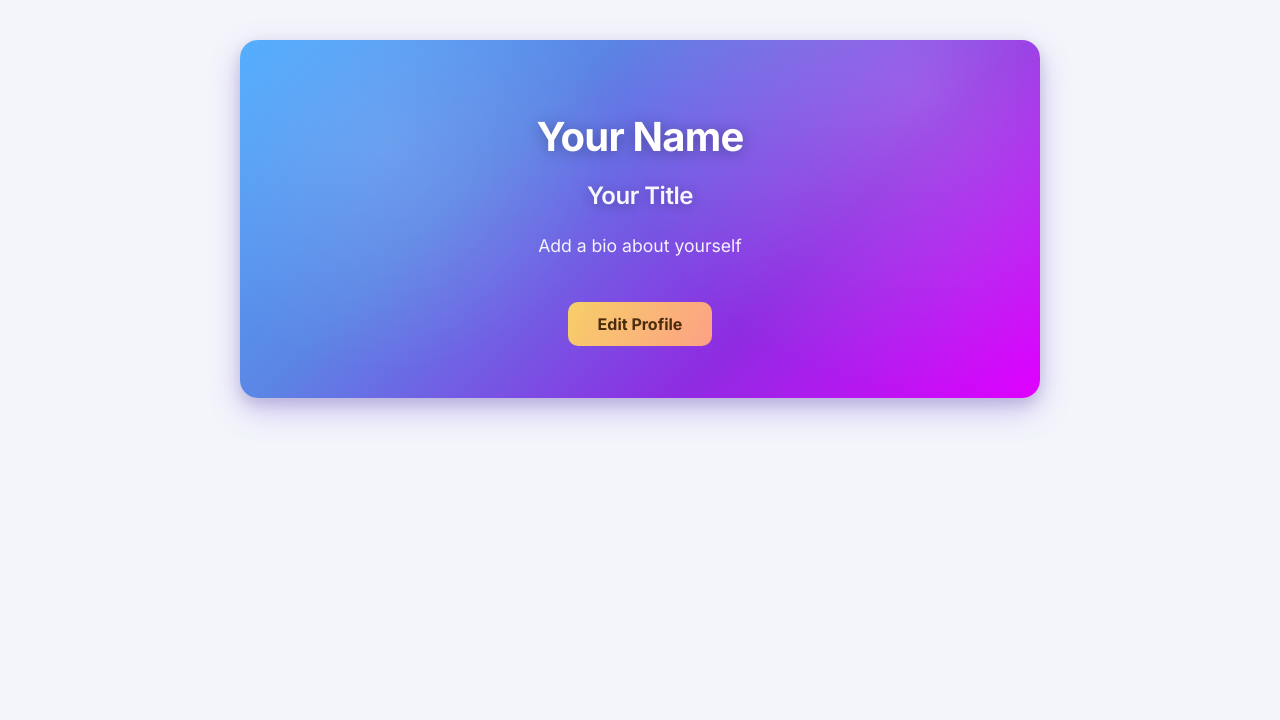
Test case: profile edit button opens and cancel button closes the profile form
Later steps or results of the test are not shown.
Step 1. Click the button "Edit Profile" → (640, 324), box [568,302,712,346]
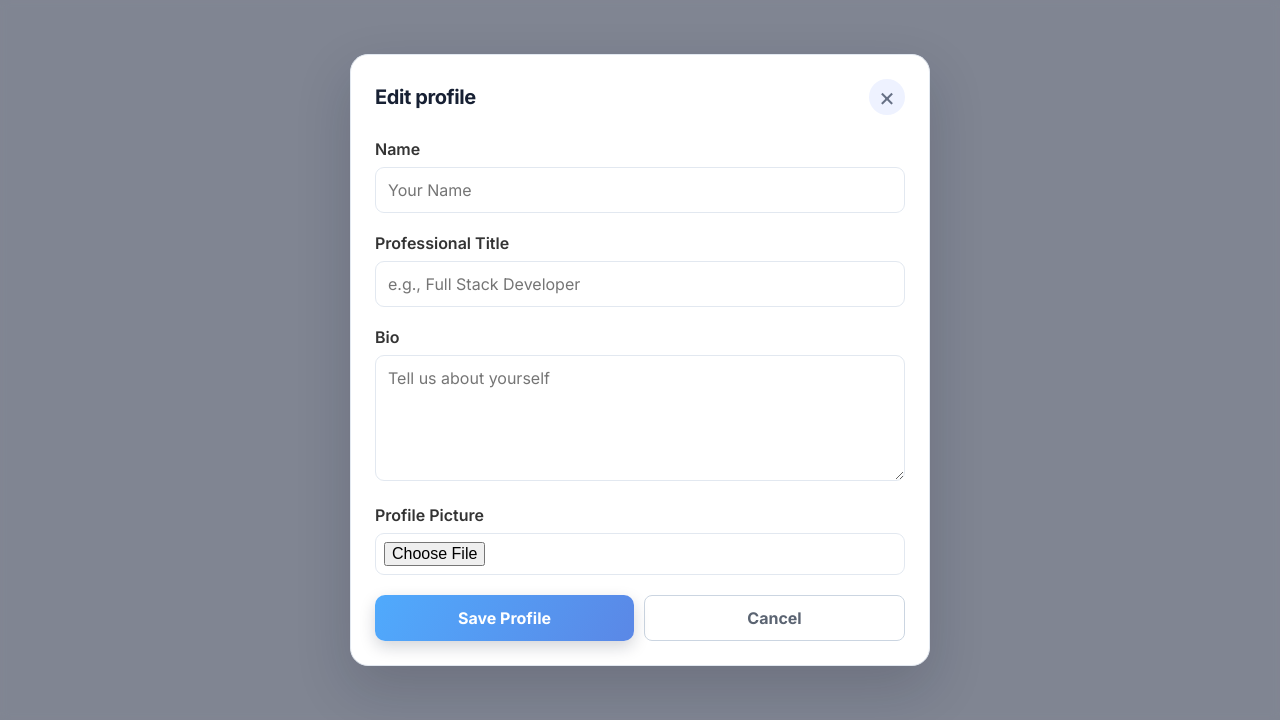
Check: the button "Save Profile" is shown, box [375,595,634,641]
